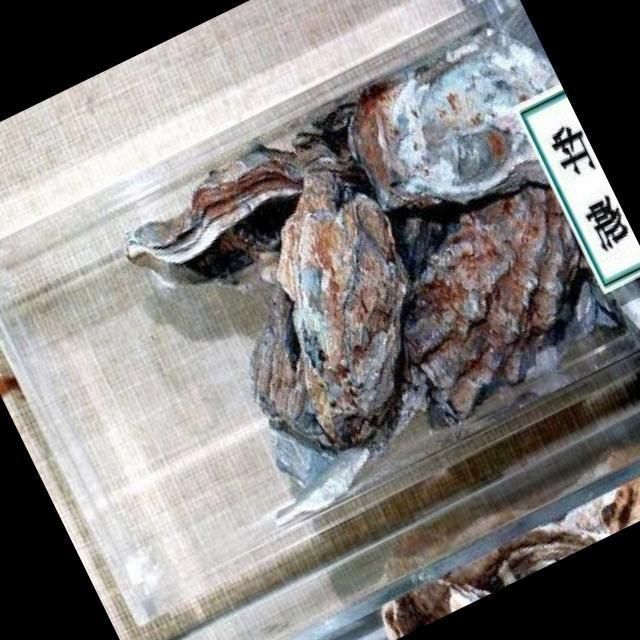Oyster-Closed: (395, 178, 614, 439), (266, 151, 422, 451), (104, 133, 310, 317), (238, 277, 432, 466), (282, 84, 369, 181)
Oyster-Open: (338, 22, 568, 220)
